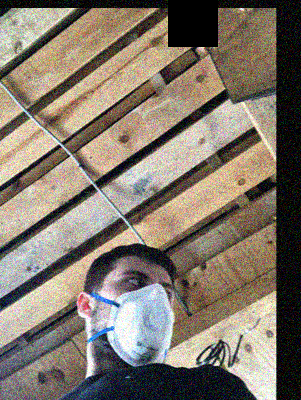with_mask: (111, 267, 175, 367)
